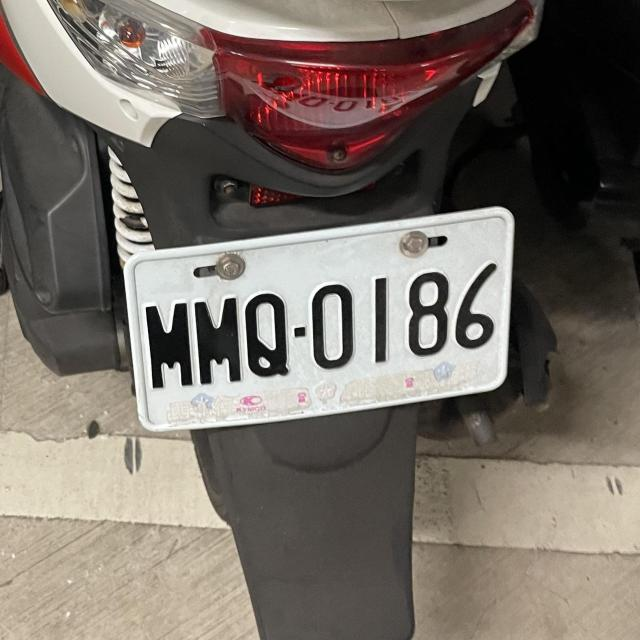W: (114, 209, 527, 438)
